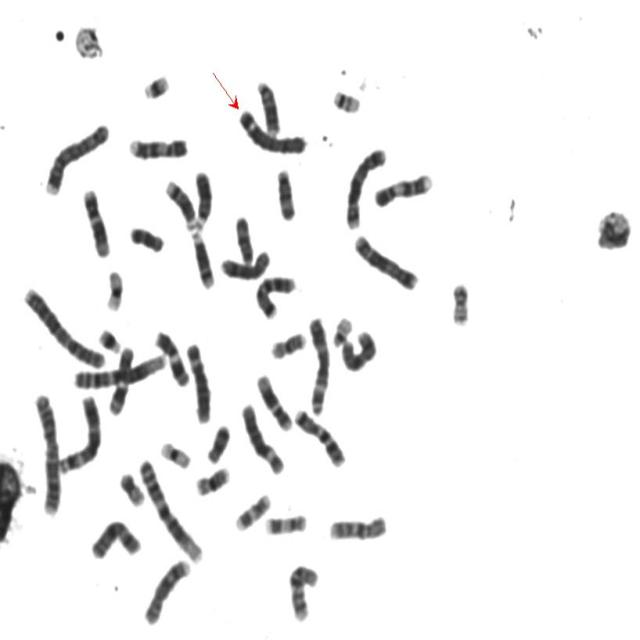A1: (135, 454, 205, 565), (70, 346, 169, 391)
A2: (19, 281, 108, 371), (29, 386, 63, 517)
A3: (54, 390, 104, 475), (304, 310, 332, 417)
B4: (41, 117, 112, 197), (235, 104, 310, 156)
B5: (350, 228, 421, 292), (342, 141, 389, 231)
C10: (284, 558, 322, 624), (324, 509, 390, 543)
C11: (150, 325, 191, 388), (104, 339, 137, 416)
C12: (252, 367, 295, 433), (78, 183, 113, 259)
C6: (238, 396, 287, 476), (182, 337, 214, 425)
C7: (290, 402, 348, 468), (251, 269, 299, 321)
C8: (140, 554, 193, 628), (216, 244, 273, 283)
C9: (370, 166, 435, 210), (125, 130, 190, 161)
D13: (252, 75, 282, 137), (190, 164, 214, 230)
D14: (161, 173, 199, 230), (186, 224, 218, 290)
D15: (272, 162, 298, 222), (231, 210, 256, 266)
E16: (192, 461, 232, 497), (267, 326, 308, 361)
E17: (231, 487, 273, 534), (261, 508, 309, 538)
E18: (125, 220, 167, 254), (204, 418, 232, 465)
F19: (156, 435, 193, 471), (102, 264, 126, 313)
F20: (447, 276, 472, 327), (115, 467, 146, 508)
G21: (139, 67, 172, 101), (95, 322, 124, 354)
G22: (328, 83, 364, 114), (328, 310, 354, 349)
X: (86, 514, 144, 561), (338, 324, 380, 373)
